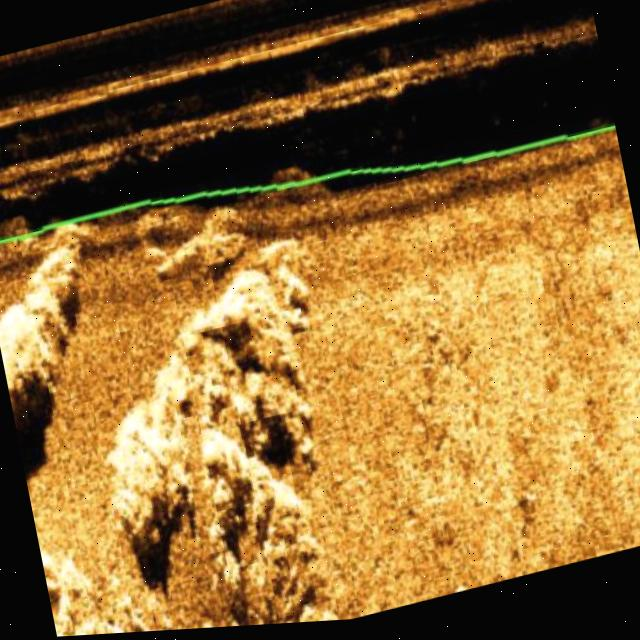bedrock group: (0, 170, 390, 640)
